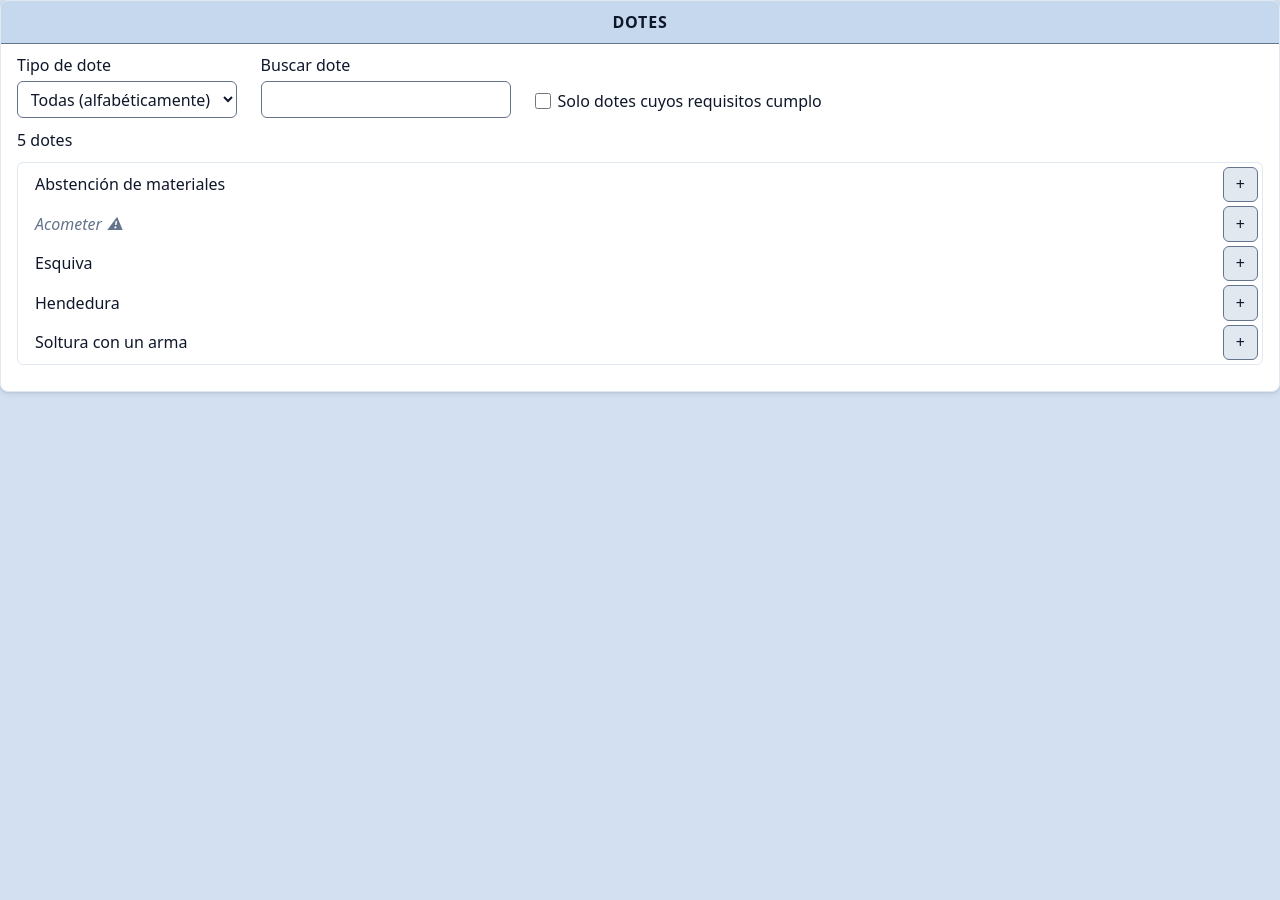
FeatsSection › adds a feat from the details dialog
Click the button with aria-label "Ver detalles de Esquiva" at (64, 263), box top-left (22, 246), bottom-right (1215, 281)
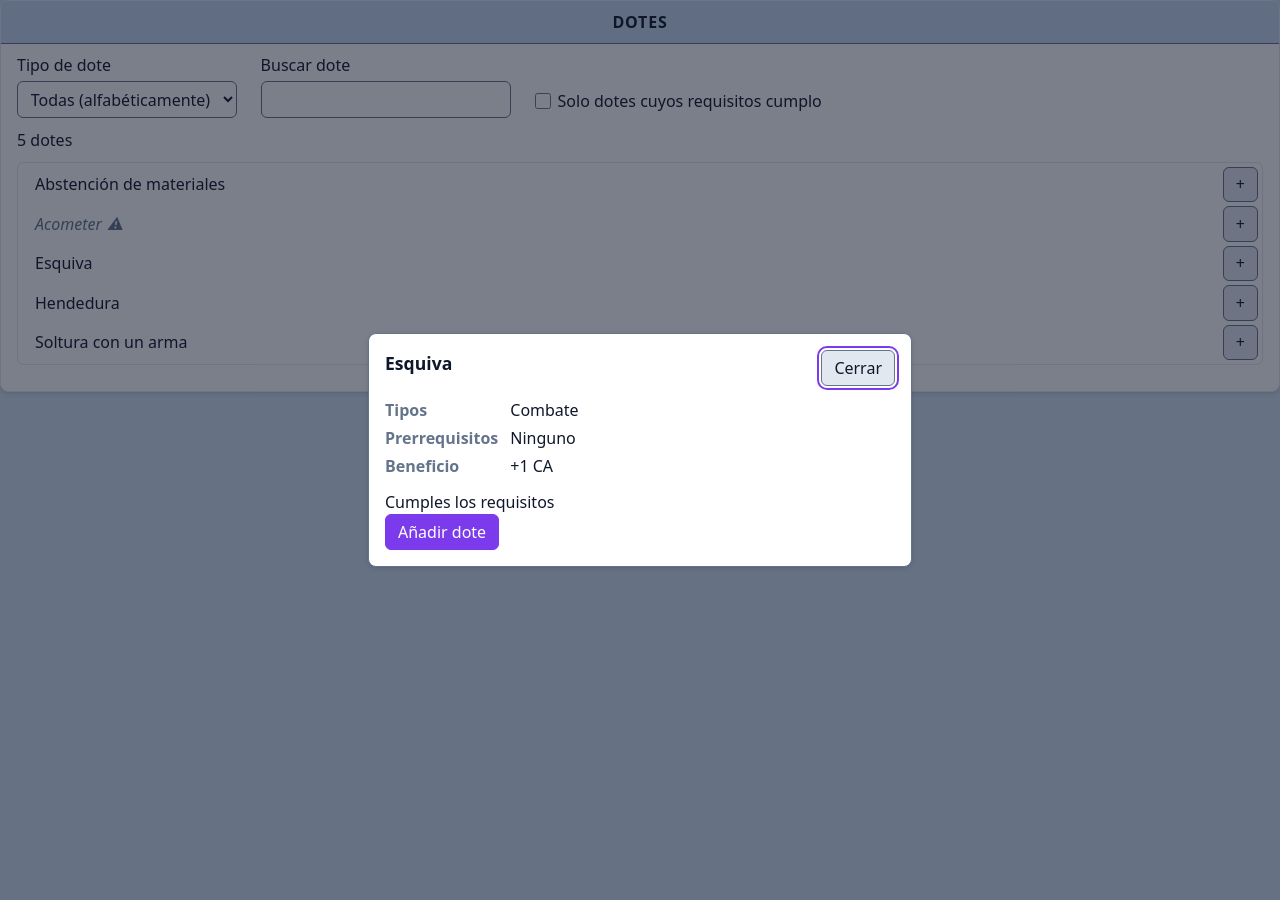
Click the button "Añadir dote" at (442, 532), box top-left (385, 514), bottom-right (499, 550)
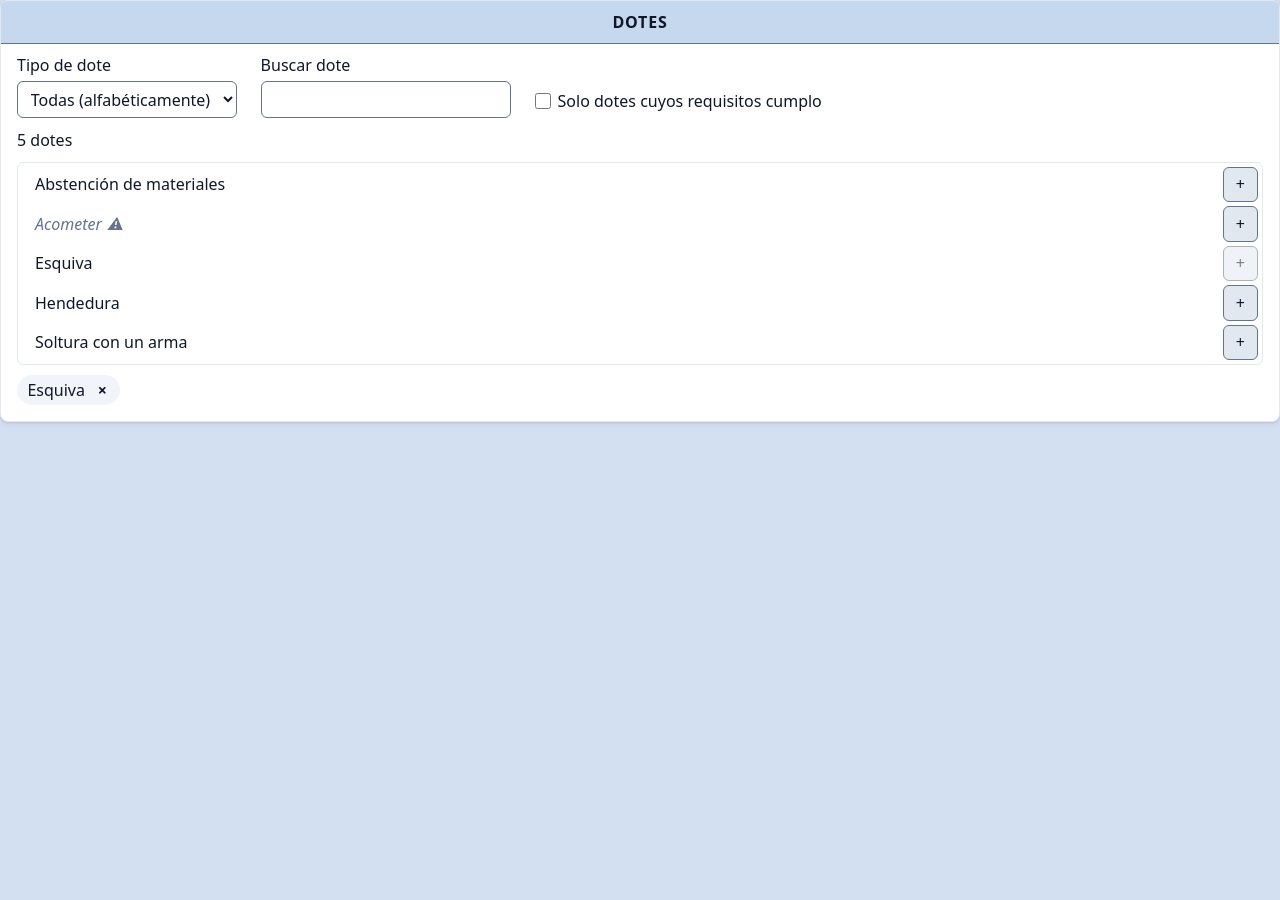
Now the 2nd button "Esquiva" is shown, box top-left (25, 378), bottom-right (87, 402)
Now the dialog is gone
